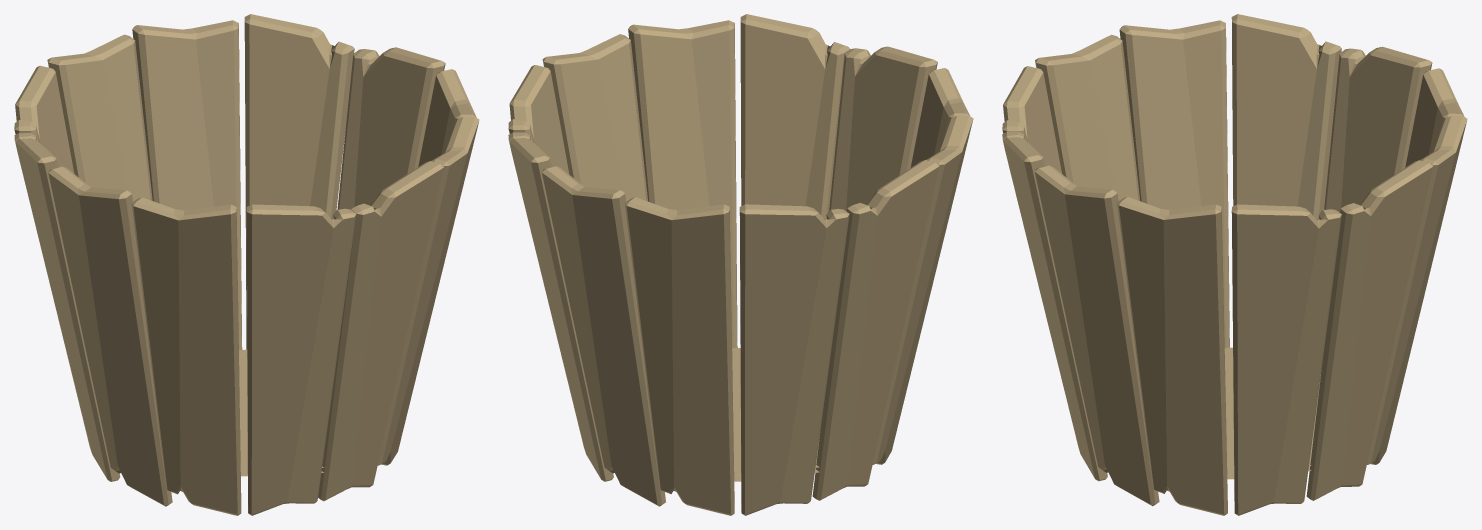
The model's file is wooden_bucket.fbx.
The picture shows the model from 3 angles, left to right: view 1: azimuth 30°, elevation 25°; view 2: azimuth 150°, elevation 25°; view 3: azimuth 270°, elevation 25°; orthographic projection.
Visible parts, largest first — view 1: bucket; view 2: bucket; view 3: bucket.
Part boxes in pixels (<box>): bucket: <box>14,14,479,515</box>; bucket: <box>508,14,973,515</box>; bucket: <box>1002,14,1467,515</box>.
Bounding box in the file's own units: 264 × 210 × 260.
